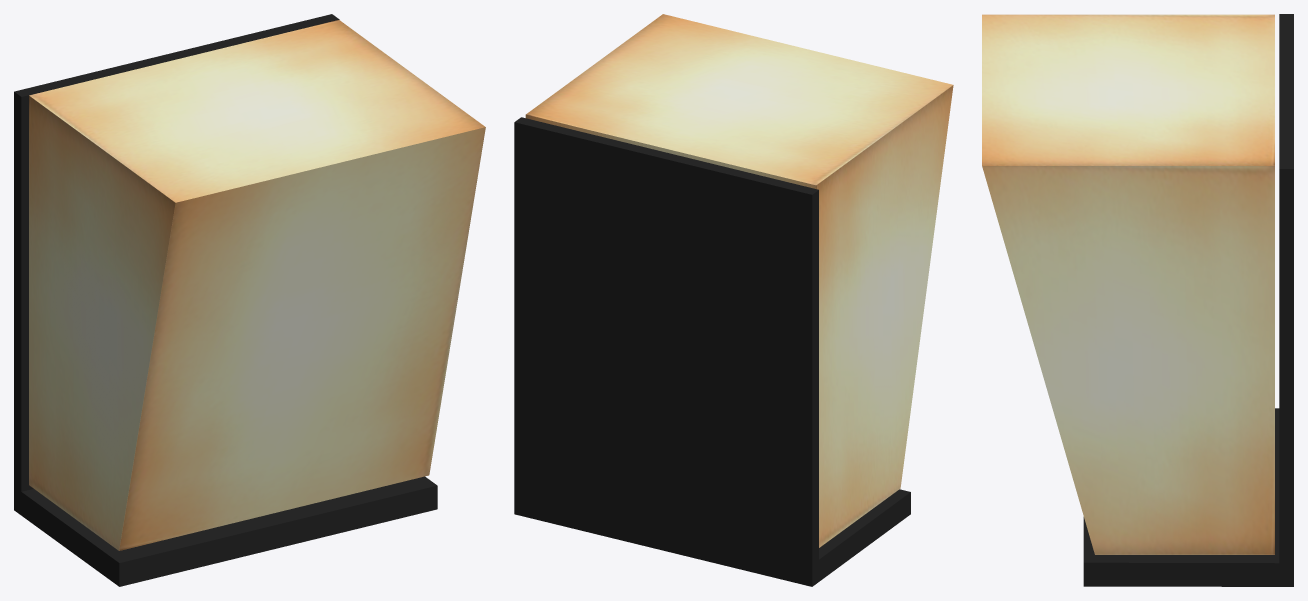
Rendered from sconce.fbx.
3 renders of one model, left to right at view 1: azimuth 30°, elevation 25°; view 2: azimuth 150°, elevation 25°; view 3: azimuth 270°, elevation 25°, orthographic. The views are drawn at different scales.
Visible parts, largest first — view 1: Box001, Line001; view 2: Line001, Box001; view 3: Box001, Line001.
Boxes of the visible parts, <box> form: Box001: <box>29,20,485,550</box>; Line001: <box>14,14,437,586</box>; Line001: <box>514,117,910,586</box>; Box001: <box>525,14,953,547</box>; Box001: <box>982,14,1274,554</box>; Line001: <box>1083,14,1293,586</box>.
Size of the model in its own units: 10.25 by 12.95 by 8.72.
2 materials, 1 textured.
